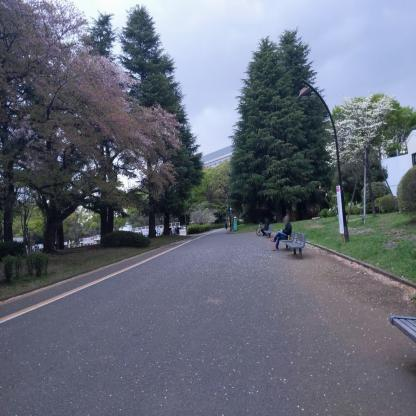Someiyoshino: (0, 0, 196, 208), (318, 81, 403, 177)
